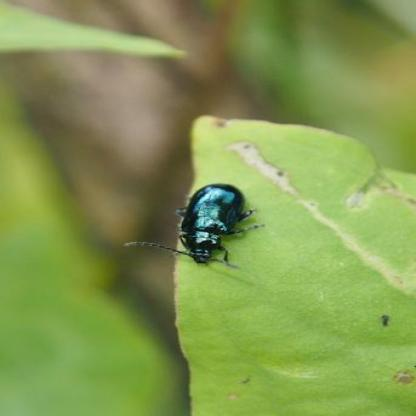beetle: (172, 178, 248, 274)
